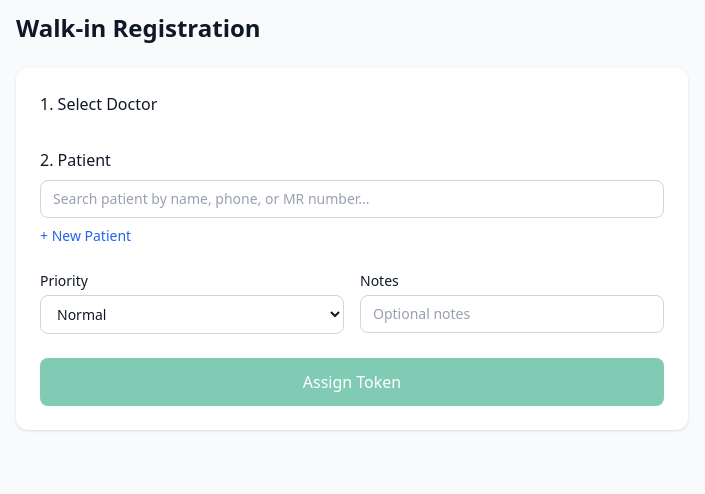
Test: WalkInPage › Change button on selected patient banner clears the selection
Type "Aa" into the field with placeholder "Search patient by name, phone, or MR number..." at (352, 199), box top-left (40, 180), bottom-right (664, 218)
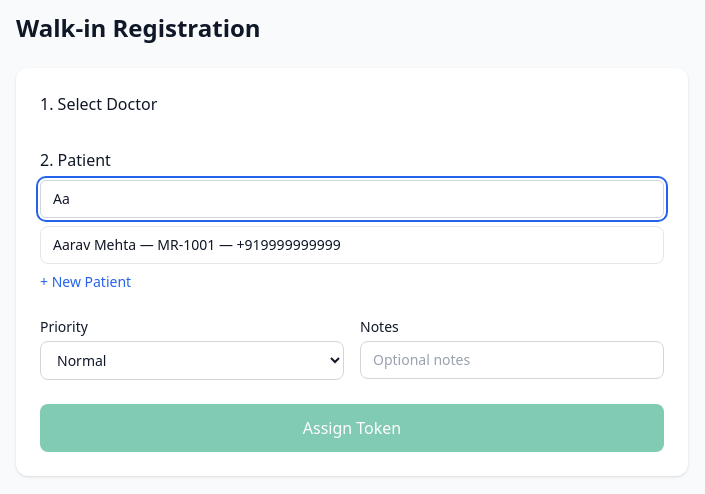
Press the mouse on the button "Aarav Mehta — MR-1001 — +919999999999" at (95, 244), box top-left (41, 227), bottom-right (663, 263)
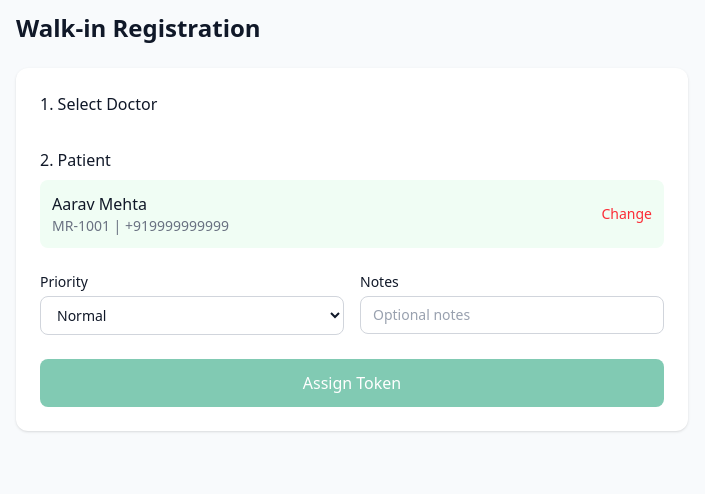
Result: the text "Aarav Mehta" is shown at top-left (52, 193), bottom-right (147, 215)
Click the button "Change" at (627, 214), box top-left (602, 204), bottom-right (652, 224)
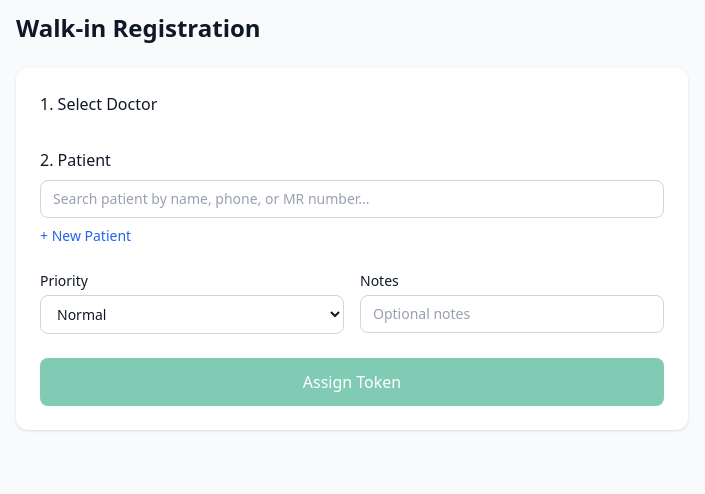
Result: the field with placeholder "Search patient by name, phone, or MR number..." is shown at top-left (40, 180), bottom-right (664, 218)
